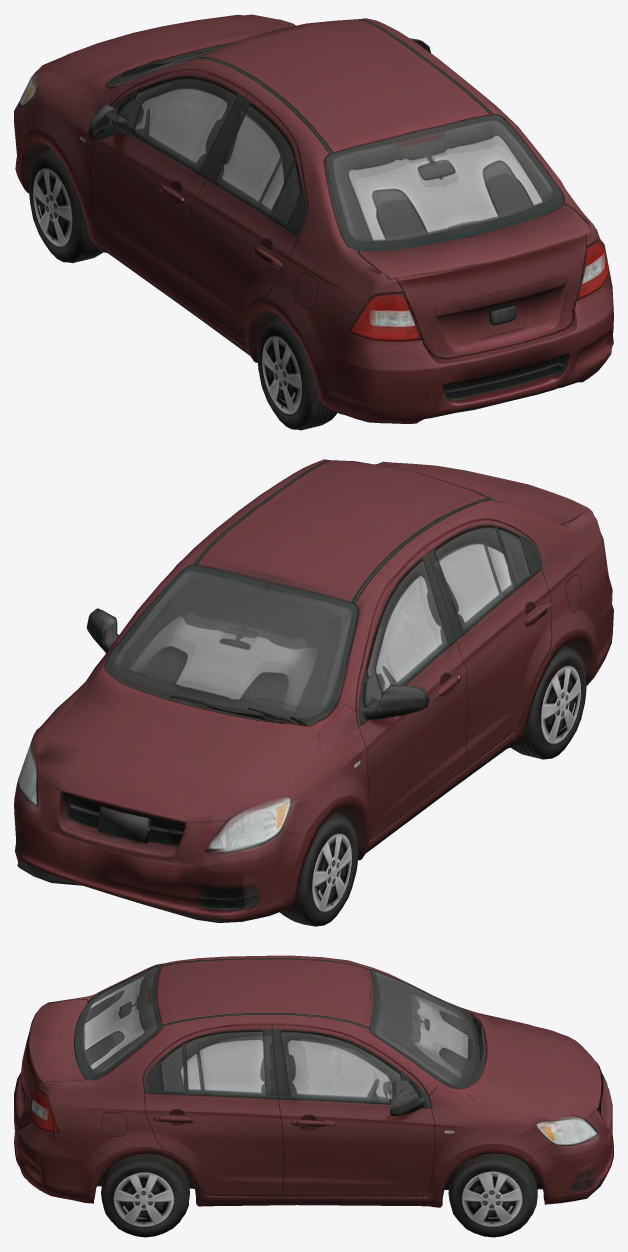
The model's file is vehicle-sedan.glb.
3 views of the same model, one above another, from view 1: azimuth 30°, elevation 25°; view 2: azimuth 150°, elevation 25°; view 3: azimuth 270°, elevation 25° (orthographic). The views are drawn at different scales.
Visible parts, largest first — view 1: tripo_node_838ac1bb-b8bf-4506-b520-18e2463cf9b7; view 2: tripo_node_838ac1bb-b8bf-4506-b520-18e2463cf9b7; view 3: tripo_node_838ac1bb-b8bf-4506-b520-18e2463cf9b7.
Part boxes in pixels (box(x1,y1,x2,y2)): tripo_node_838ac1bb-b8bf-4506-b520-18e2463cf9b7: box(14, 14, 613, 430); tripo_node_838ac1bb-b8bf-4506-b520-18e2463cf9b7: box(14, 459, 613, 926); tripo_node_838ac1bb-b8bf-4506-b520-18e2463cf9b7: box(14, 955, 613, 1237).
Size of the model in its own units: 0.4941 by 0.377 by 0.998.
1 material, 1 textured.
